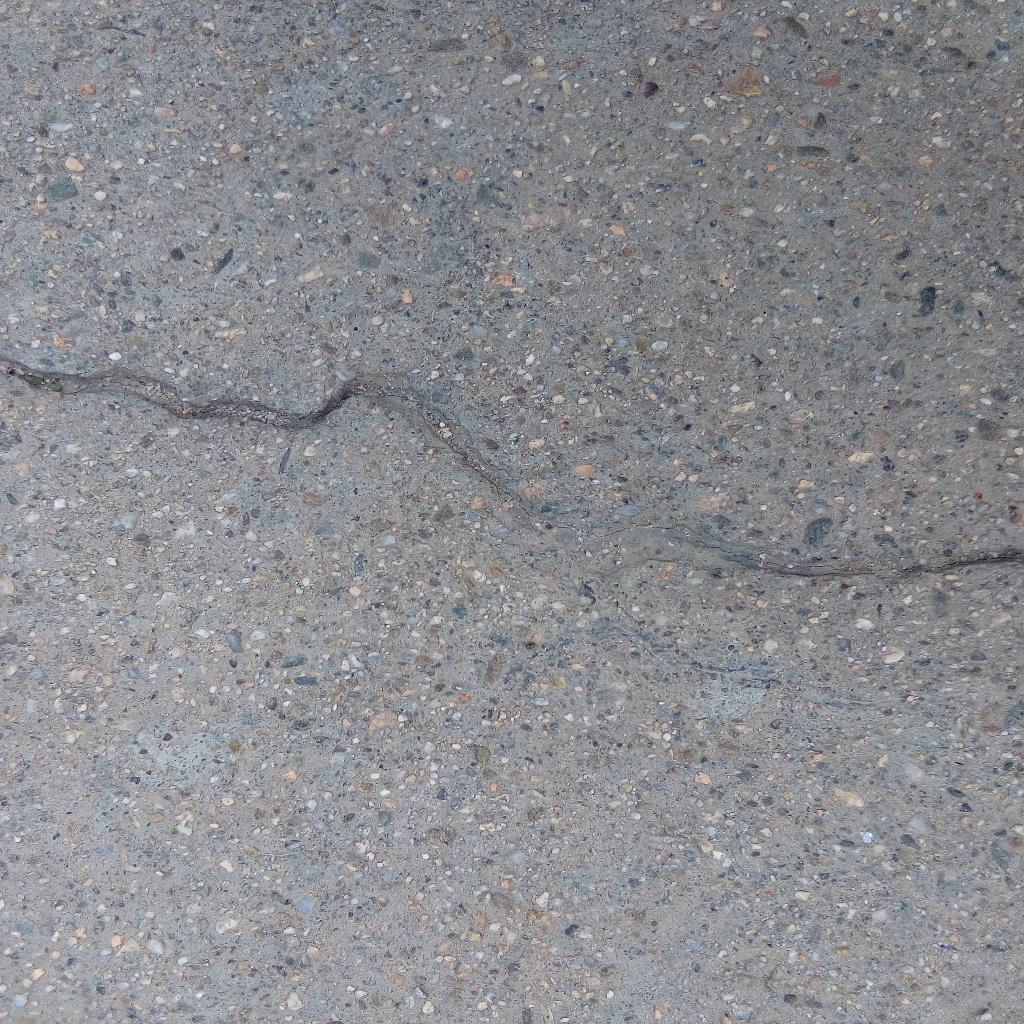Crack: (1, 361, 1024, 581)
